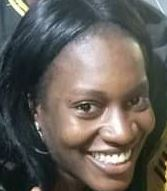without_facemask: (59, 120, 158, 187)
